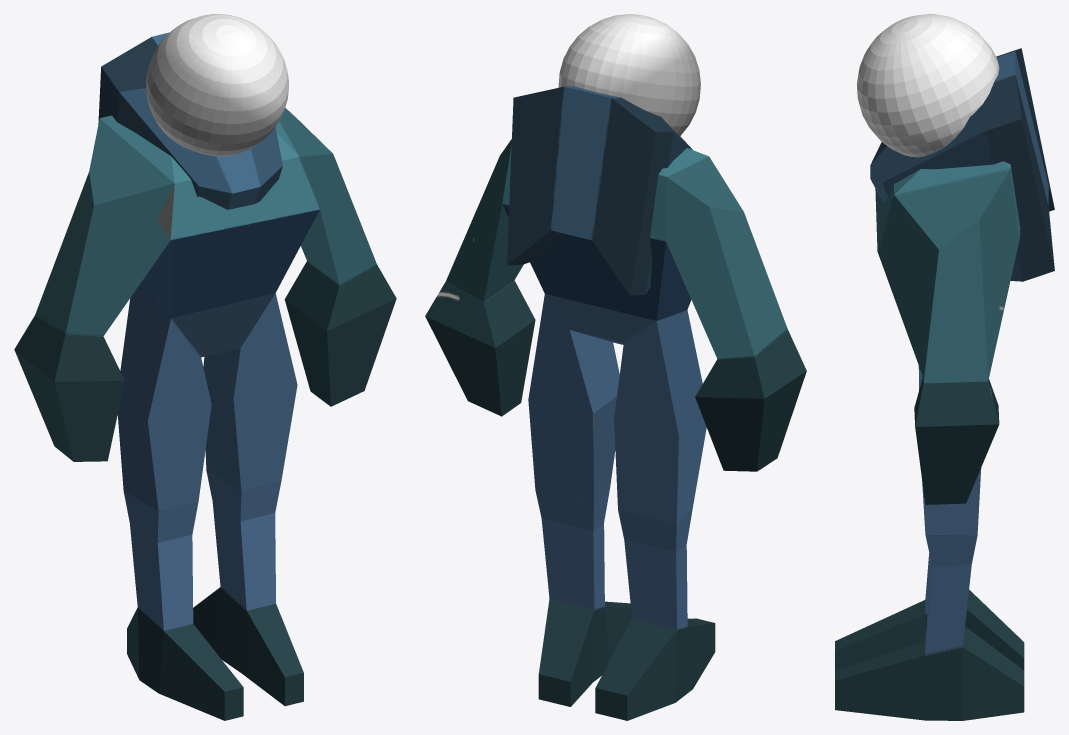
File: malecharacter.fbx
3 views of the same model, side by side, from view 1: azimuth 30°, elevation 25°; view 2: azimuth 150°, elevation 25°; view 3: azimuth 270°, elevation 25° (orthographic). The views are drawn at different scales.
Parts seen in each view (by area): view 1: Cube.001, Cube.003, Cube.002; view 2: Cube.001, Cube.003, Cube.002; view 3: Cube.001, Cube.002.
Boxes of the visible parts, x1,y1,x2,y2 form: Cube.001: [14, 14, 396, 720]; Cube.003: [117, 286, 211, 542]; Cube.002: [203, 293, 297, 521]; Cube.001: [425, 14, 806, 720]; Cube.003: [614, 310, 706, 552]; Cube.002: [528, 294, 619, 530]; Cube.001: [835, 14, 1054, 720]; Cube.002: [918, 366, 981, 567].
Bounding box in the file's own units: 672 × 1232 × 367.
